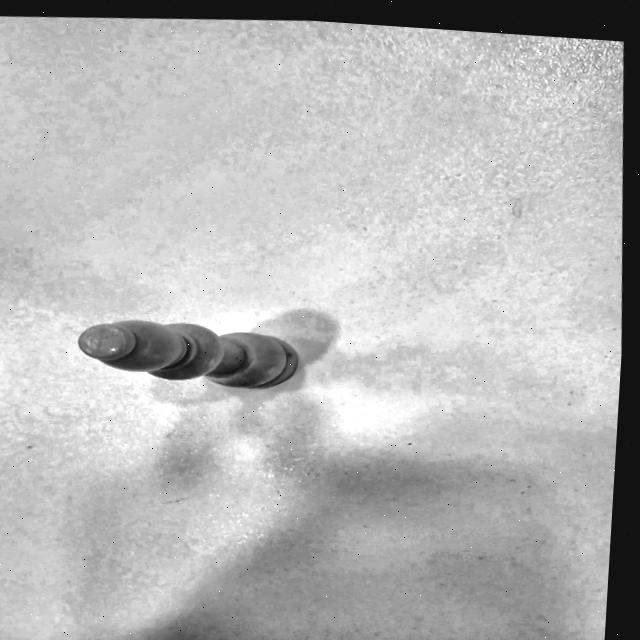white-bishop: (45, 290, 371, 424)
